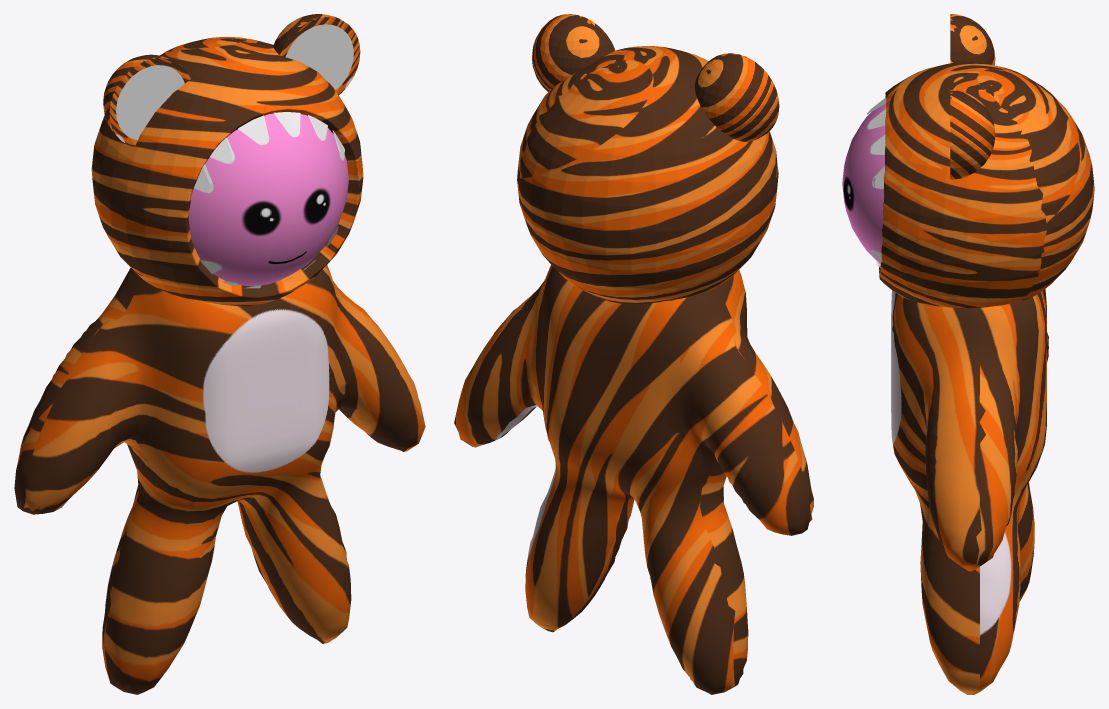
Rendered from weirdcharacter.glb.
3 renders of one model, left to right at view 1: azimuth 30°, elevation 25°; view 2: azimuth 150°, elevation 25°; view 3: azimuth 270°, elevation 25°, orthographic. The views are drawn at different scales.
Parts seen in each view (by area): view 1: try remesh, headout, face, ears, onfacething; view 2: try remesh, headout, ears; view 3: try remesh, headout, ears, face, onfacething.
Boxes of the visible parts, x1,y1,x2,y2 form: try remesh: (14,265,425,694); headout: (91,37,363,306); face: (188,113,348,285); ears: (103,14,360,146); onfacething: (194,112,344,288); try remesh: (454,264,813,694); headout: (517,46,778,304); ears: (532,14,779,141); try remesh: (891,289,1048,694); headout: (879,62,1094,308); ears: (950,14,995,179); face: (842,103,886,264); onfacething: (867,97,886,267).
Size of the model in its own units: 3.21 by 5.25 by 1.99.
4 materials, 2 textured.
